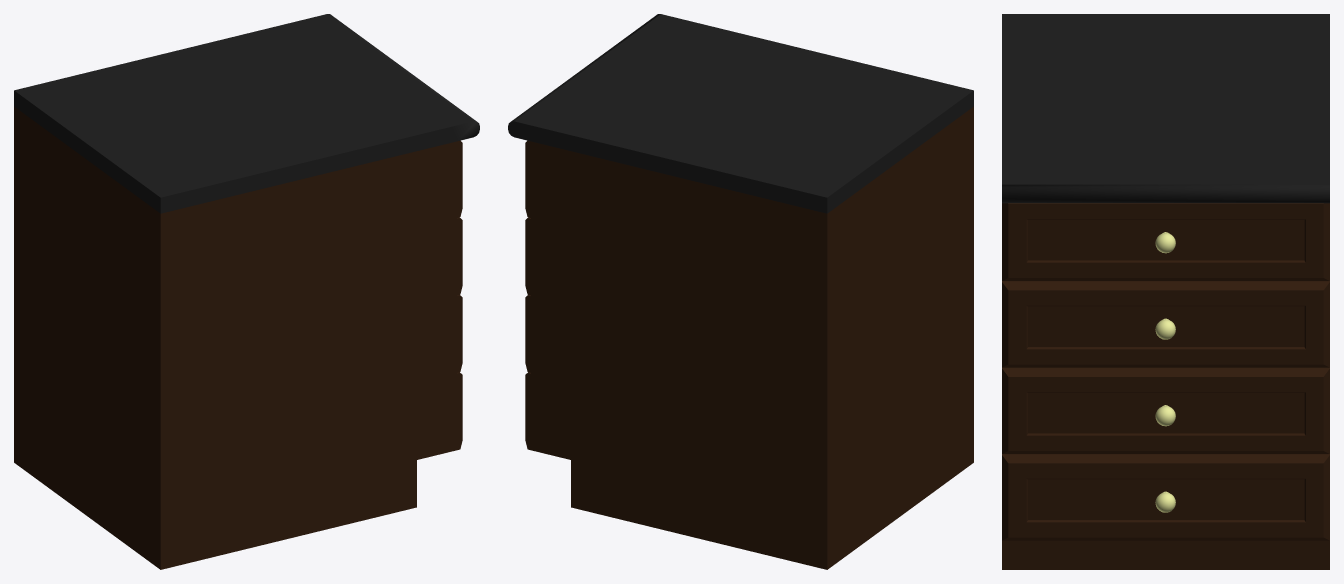
File: cabinet_Drawer.fbx
The picture shows the model from 3 angles, left to right: view 1: azimuth 30°, elevation 25°; view 2: azimuth 150°, elevation 25°; view 3: azimuth 270°, elevation 25°; orthographic projection. The views are drawn at different scales.
Visible parts, largest first — view 1: Cabinet.002; view 2: Cabinet.002; view 3: Cabinet.002, Drawer2, Drawer3, Drawer4, Drawer1.
Part boxes in pixels (x1,y1,x2,y2): Cabinet.002: [14, 14, 479, 569]; Cabinet.002: [508, 14, 973, 569]; Cabinet.002: [1002, 14, 1329, 569]; Drawer2: [1002, 281, 1329, 367]; Drawer3: [1002, 367, 1329, 453]; Drawer4: [1002, 454, 1329, 540]; Drawer1: [1002, 203, 1329, 280].
Size of the model in its own units: 62.83 by 70 by 50.
